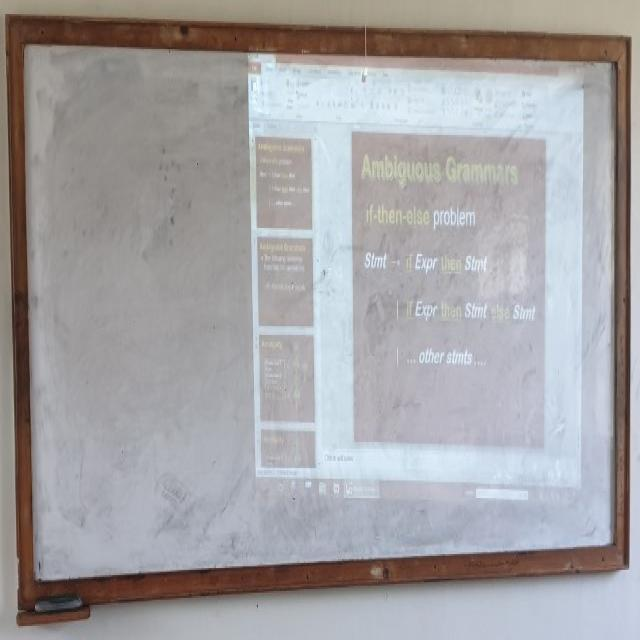Slide: (246, 33, 582, 511)
White-board: (16, 29, 625, 600)
